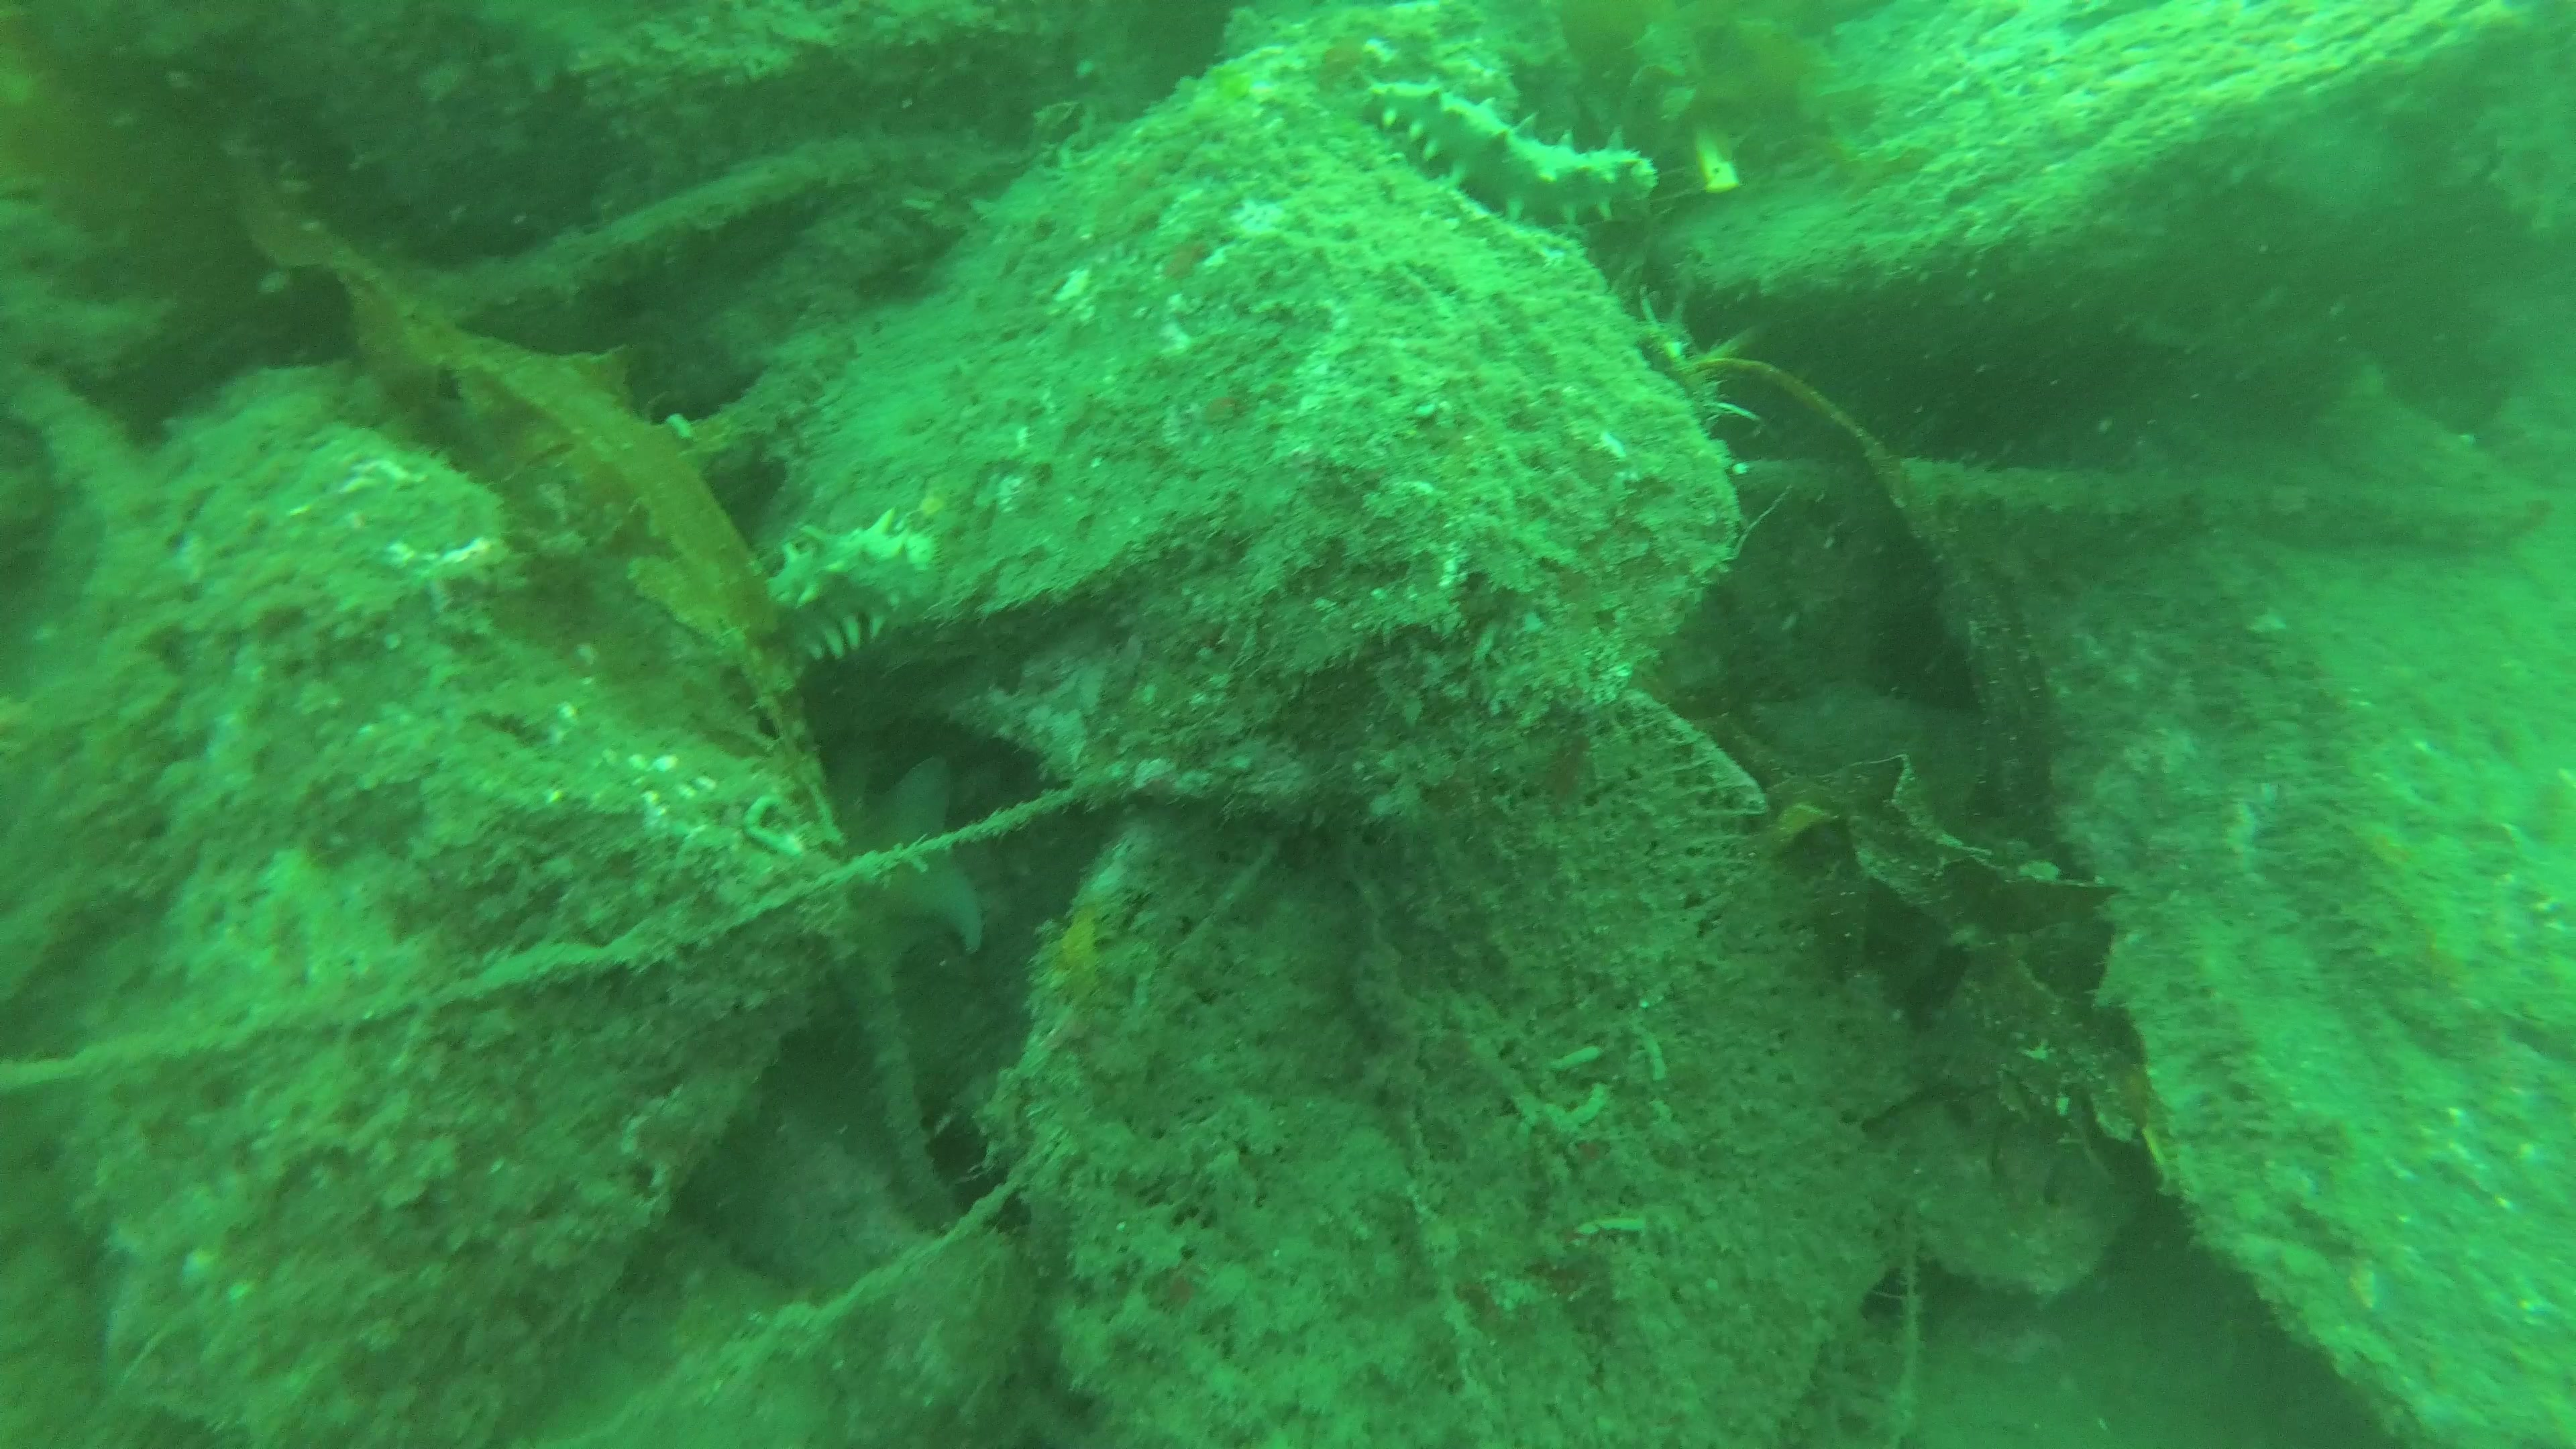holothurian: (1355, 69, 1668, 234), (750, 499, 943, 667)
starfish: (832, 752, 991, 957)
